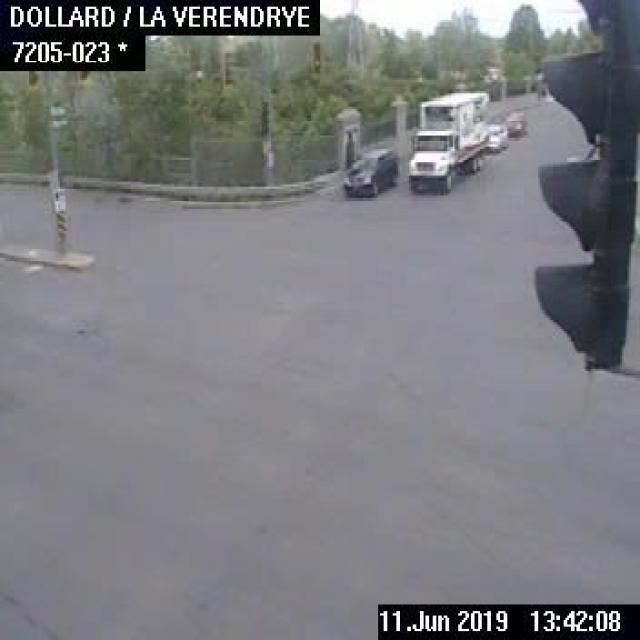vehicle: (402, 87, 487, 193), (342, 144, 394, 196), (486, 122, 509, 156), (504, 109, 528, 140)
